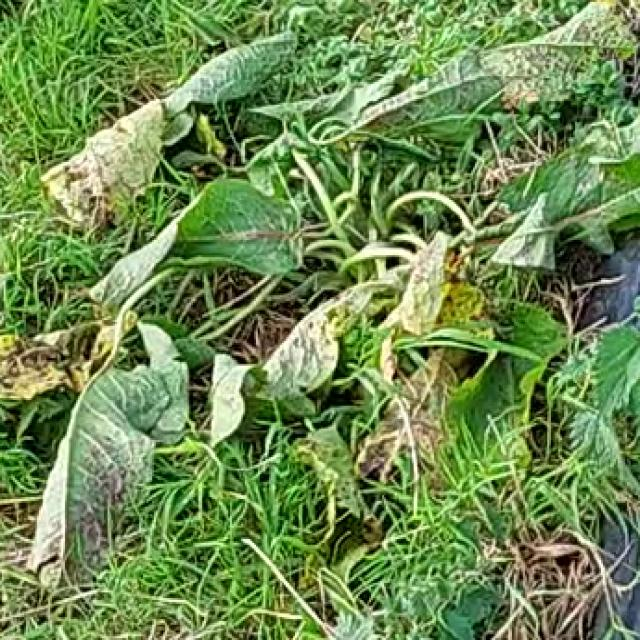organic waste: (35, 42, 640, 579)
